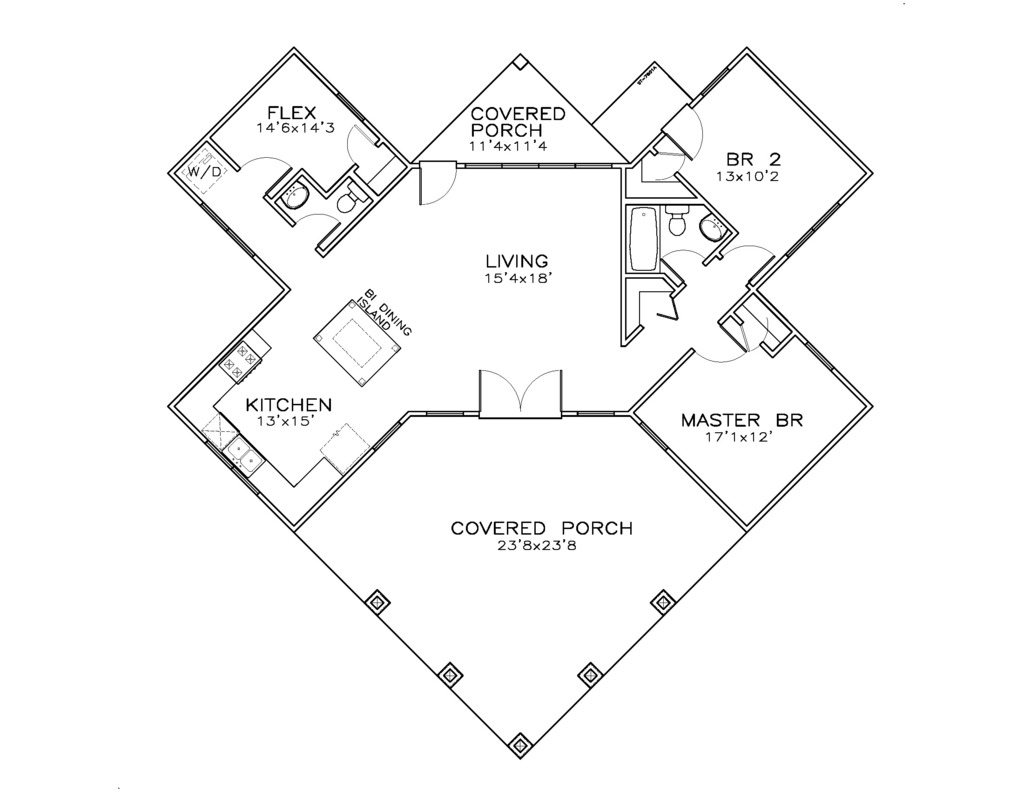door: (476, 362, 565, 419), (689, 320, 746, 373), (659, 100, 703, 163), (723, 238, 781, 282), (244, 142, 292, 194), (418, 162, 465, 204), (294, 210, 342, 251), (660, 245, 704, 289), (646, 154, 701, 183), (341, 125, 378, 166)
kitchen_bar: (176, 319, 271, 406)
large_sink: (336, 180, 364, 218), (662, 203, 692, 236)
small_sink: (277, 182, 317, 212), (698, 208, 732, 239)
tub: (627, 202, 663, 283)
twin_sink: (221, 438, 264, 479)
window: (195, 202, 266, 272), (788, 197, 842, 256), (332, 90, 372, 127)
